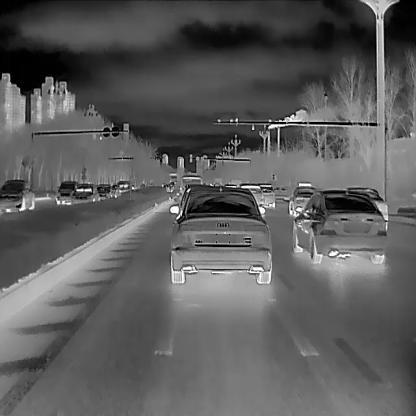car: (169, 185, 271, 284), (291, 189, 387, 264), (347, 186, 386, 233), (0, 179, 34, 212), (289, 181, 319, 215), (236, 183, 263, 213), (179, 174, 202, 201), (70, 182, 98, 204), (55, 180, 76, 205), (258, 183, 275, 206), (94, 184, 114, 199)
